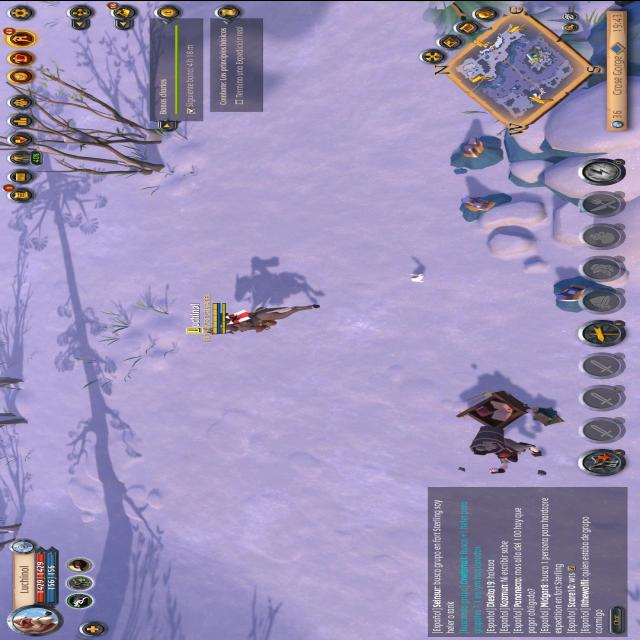piedra_cobre: (451, 188, 511, 224), (450, 136, 504, 172)
